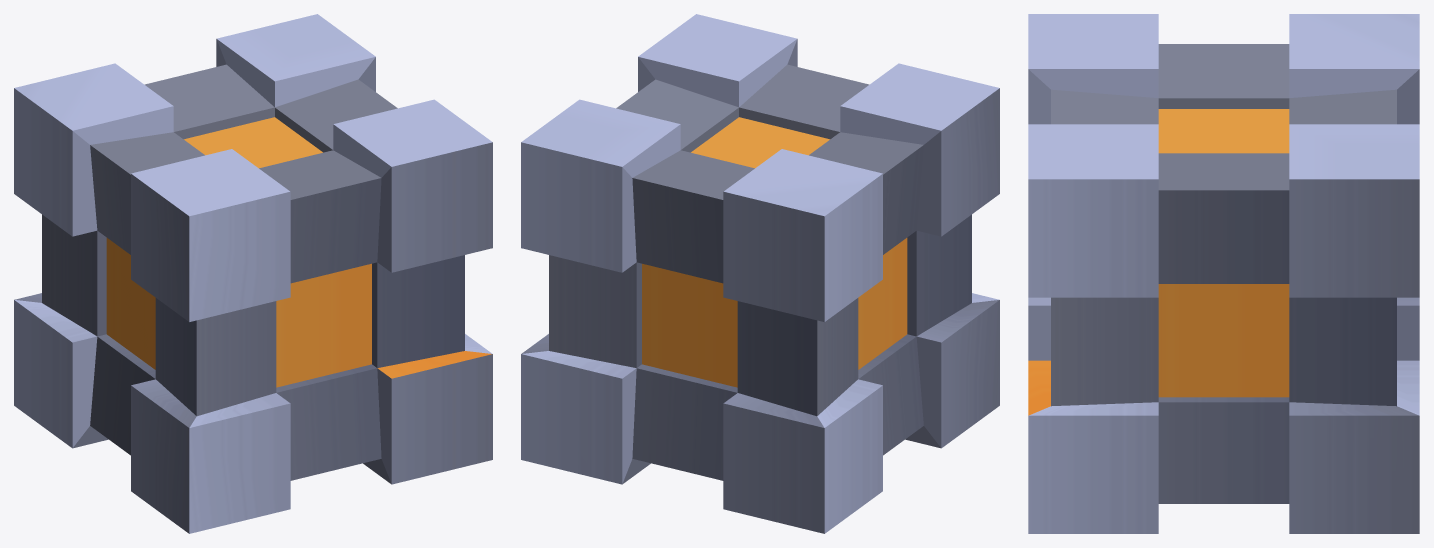
3 renders of one model, left to right at view 1: azimuth 30°, elevation 25°; view 2: azimuth 150°, elevation 25°; view 3: azimuth 270°, elevation 25°, orthographic. The views are drawn at different scales.
Visible parts, largest first — view 1: Cube; view 2: Cube; view 3: Cube.
Part boxes in pixels (<box>): Cube: <box>14,14,492,533</box>; Cube: <box>521,14,999,533</box>; Cube: <box>1028,14,1419,533</box>.
Size of the model in its own units: 4 by 4 by 4.
Materials: 1 (1 with a texture image).
